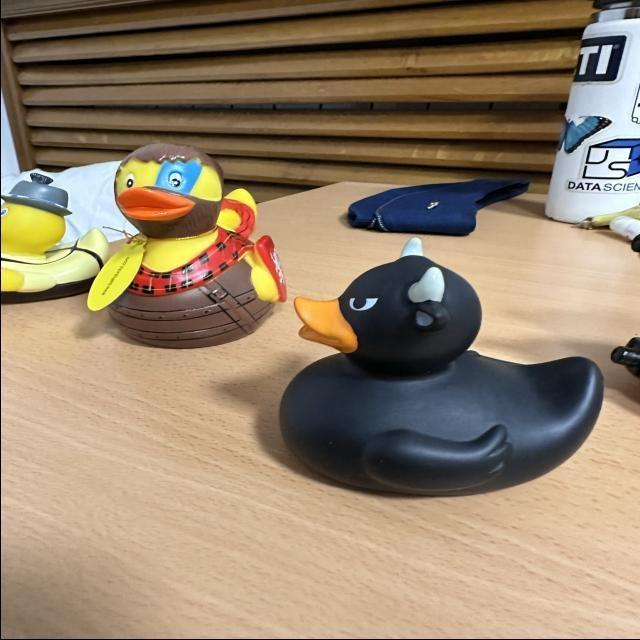rubber-duck: (279, 248, 601, 493), (86, 142, 285, 346), (0, 172, 69, 254)
